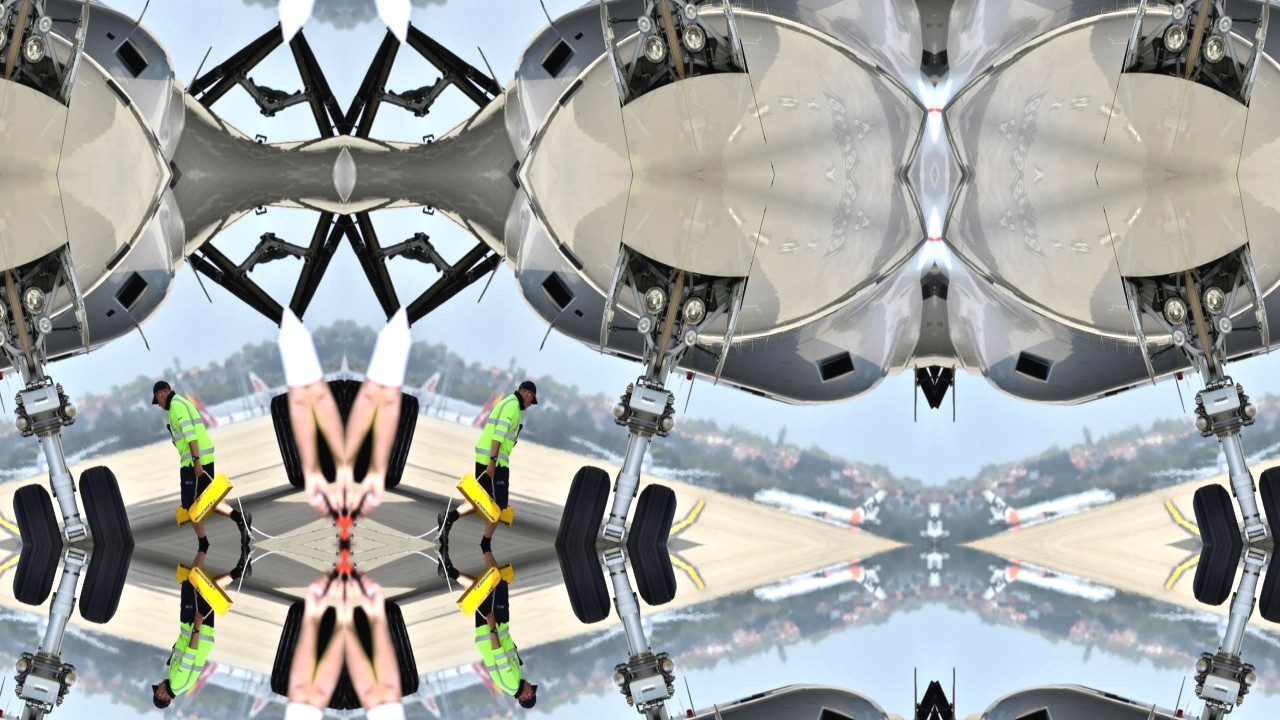chock: (177, 469, 241, 526), (448, 469, 512, 526), (177, 564, 241, 621), (448, 564, 512, 621), (172, 493, 227, 526), (462, 493, 517, 526), (172, 564, 227, 597), (462, 564, 517, 597)
wheel: (73, 462, 144, 545), (545, 462, 616, 545), (73, 545, 144, 628), (545, 545, 616, 628), (6, 480, 76, 545), (613, 480, 683, 545), (1187, 480, 1257, 545), (6, 545, 76, 610), (613, 545, 683, 610), (1187, 545, 1257, 610), (266, 393, 310, 490), (379, 393, 423, 490), (266, 600, 310, 697), (379, 600, 423, 697), (1254, 462, 1280, 545), (1254, 545, 1280, 628), (344, 377, 361, 474), (344, 616, 361, 713), (328, 377, 344, 474), (328, 616, 344, 713)
